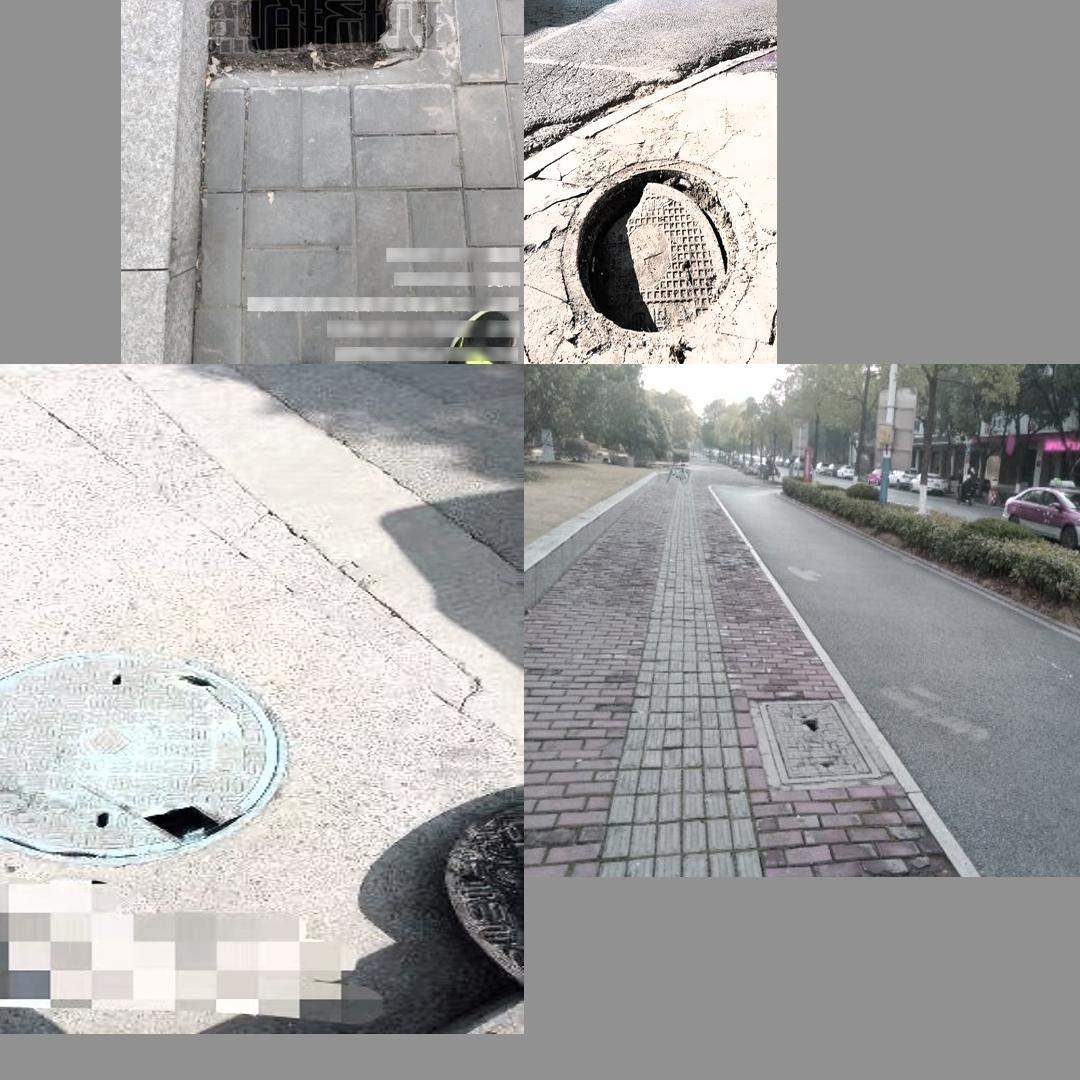broke: (0, 649, 280, 862), (541, 145, 761, 347), (184, 0, 417, 78), (757, 697, 881, 784)
